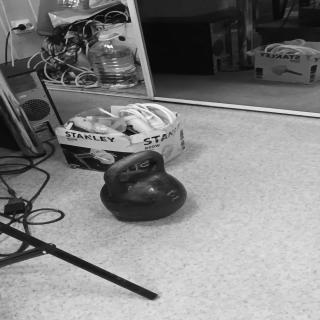girya: (101, 150, 188, 224)
